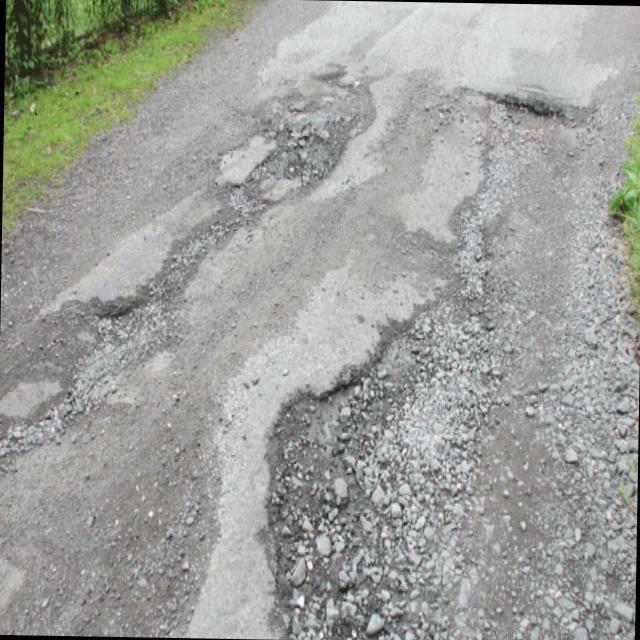Pothole: (267, 360, 512, 640), (218, 64, 380, 216), (477, 86, 605, 216), (60, 292, 186, 399)
